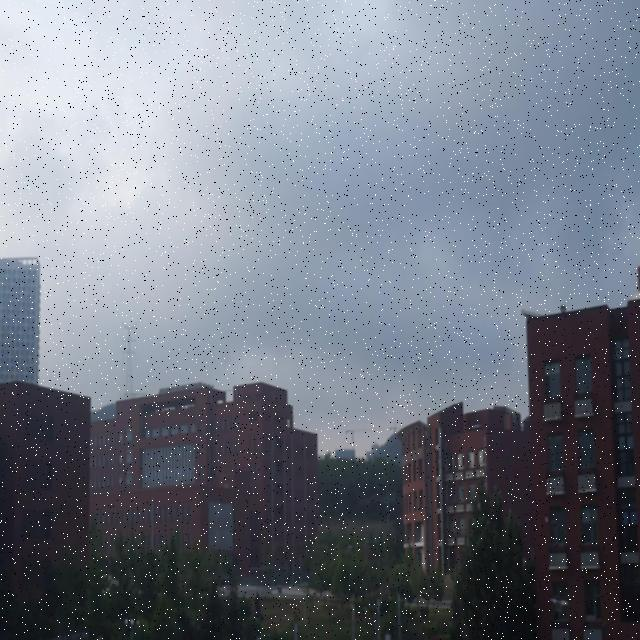UAV: (550, 597, 568, 613)
